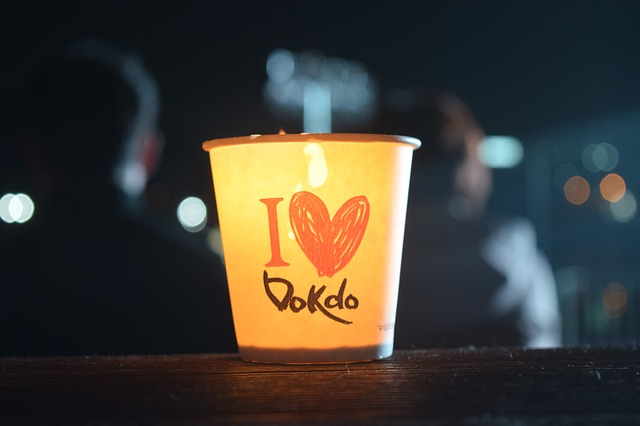cup: (188, 124, 428, 373)
